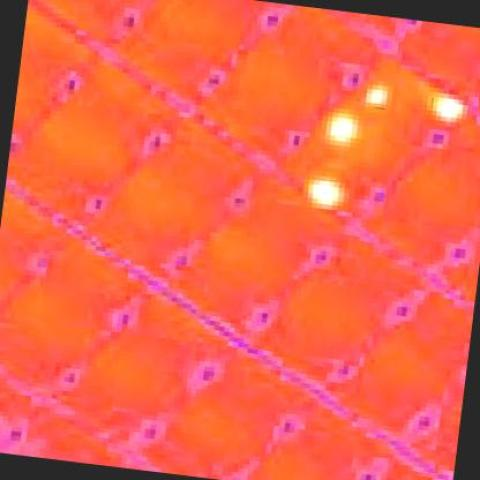fault: (436, 99, 469, 120), (309, 184, 334, 205), (371, 86, 386, 108), (336, 118, 352, 136)
